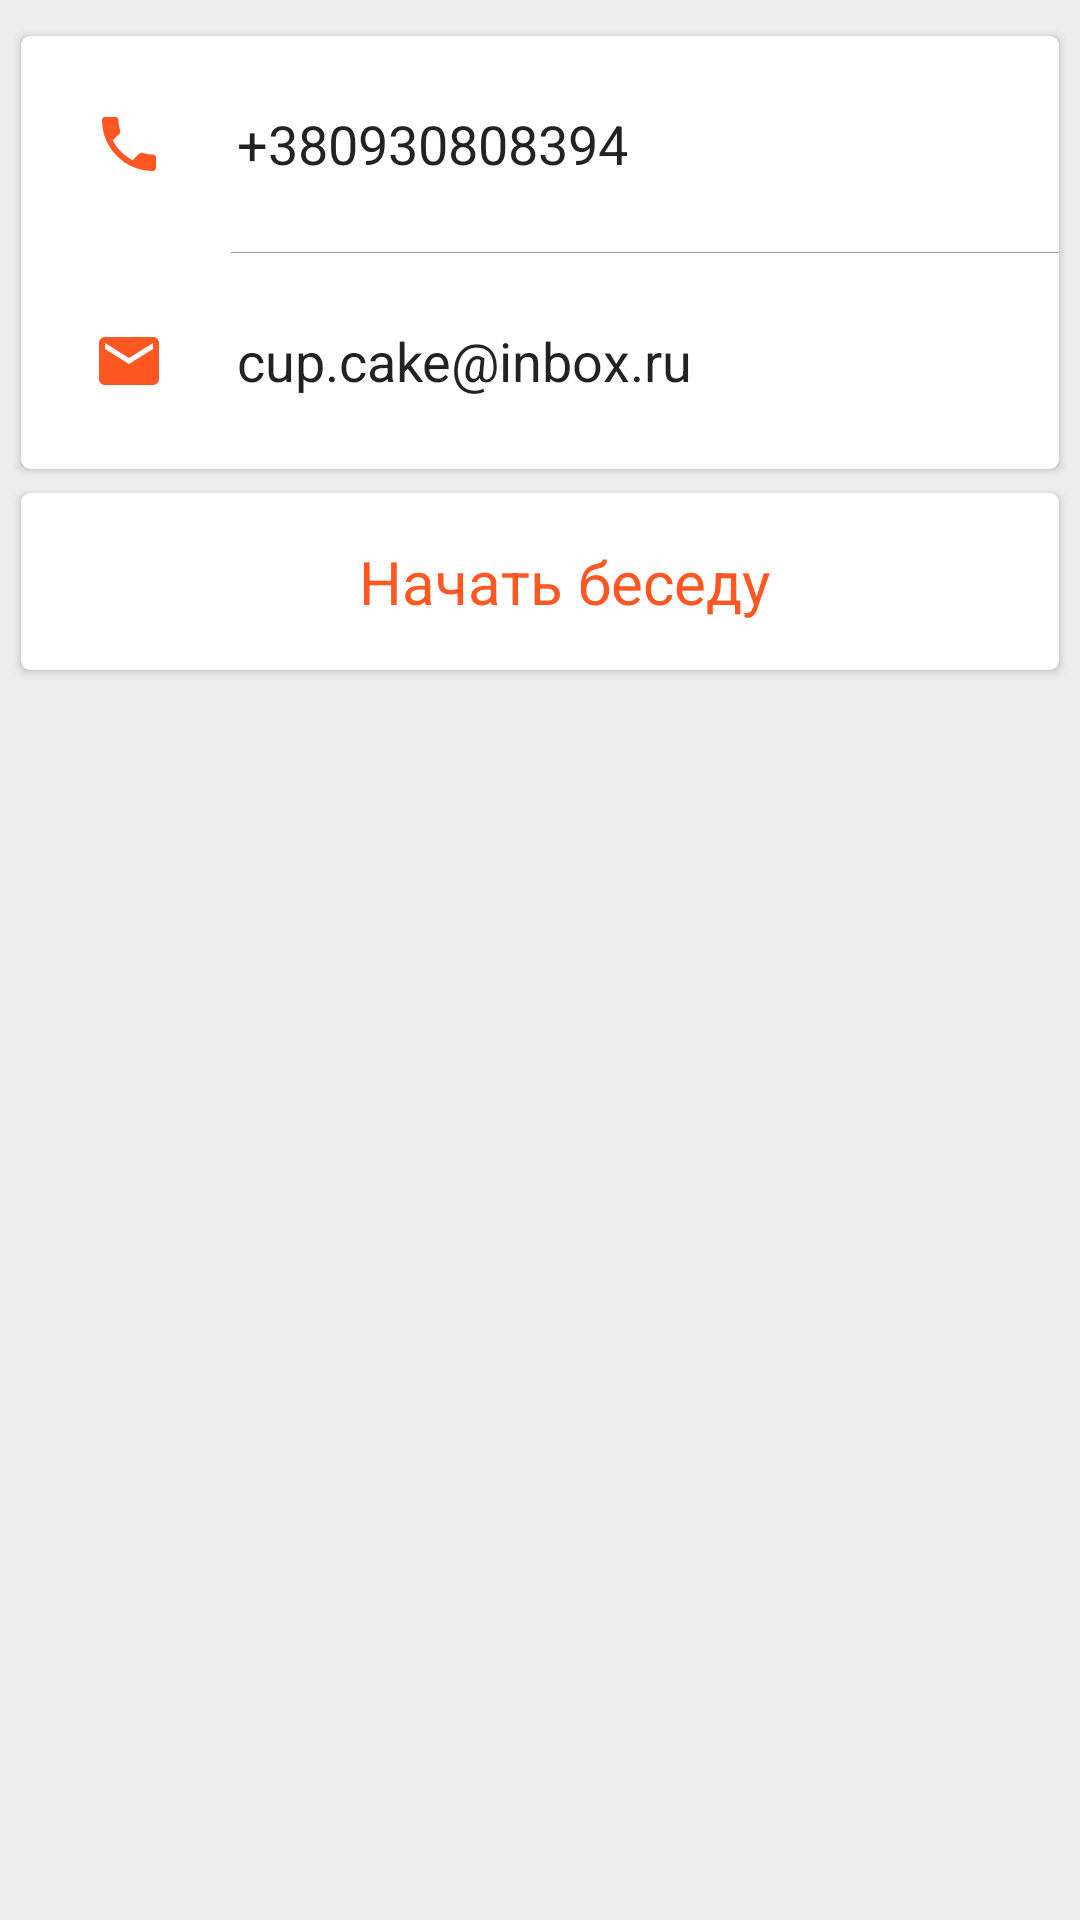

Named icons in this screenshot (1080 x 1920) and their centers, [x,y]:
call: [129,144]
email: [129,361]
